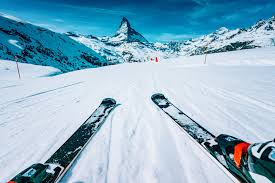skis: (11, 93, 275, 183)
